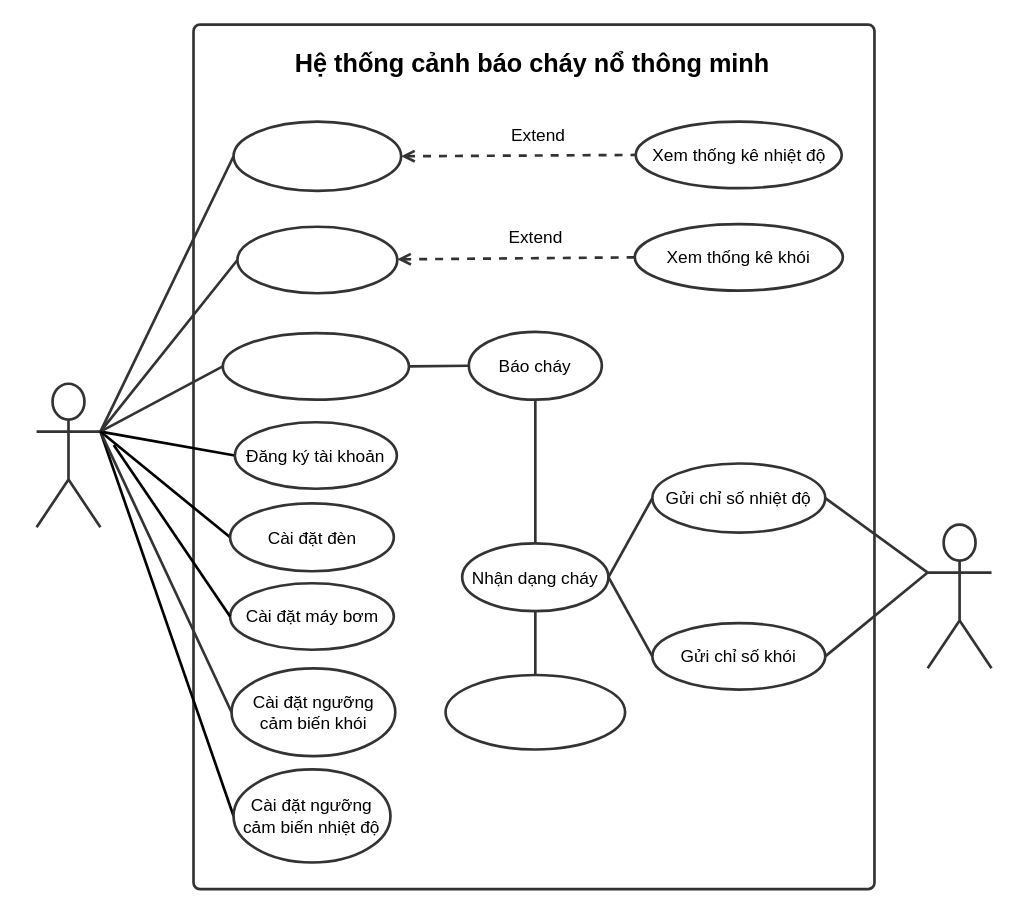
The diagram is 1016 pixels wide and 912 high, and some of its shapes have lost their labels. The shapes that lost their labels are listed below. From the top down, each one's box as (x1, y1, x2, y2) in pixels, then its label:
(232, 120, 402, 192): Xem chỉ số nhiệt độ
(235, 225, 398, 294): Xem chỉ số khói
(221, 331, 410, 400): Nhận thông báo cháy
(35, 382, 101, 528): Người dùng
(926, 523, 992, 669): Sensor
(444, 673, 626, 750): Thiết lập trạng thái máy bơm
